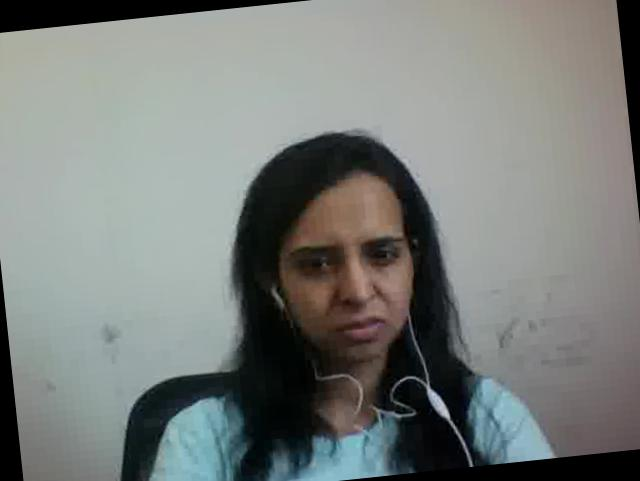bingung: (268, 183, 417, 369)
